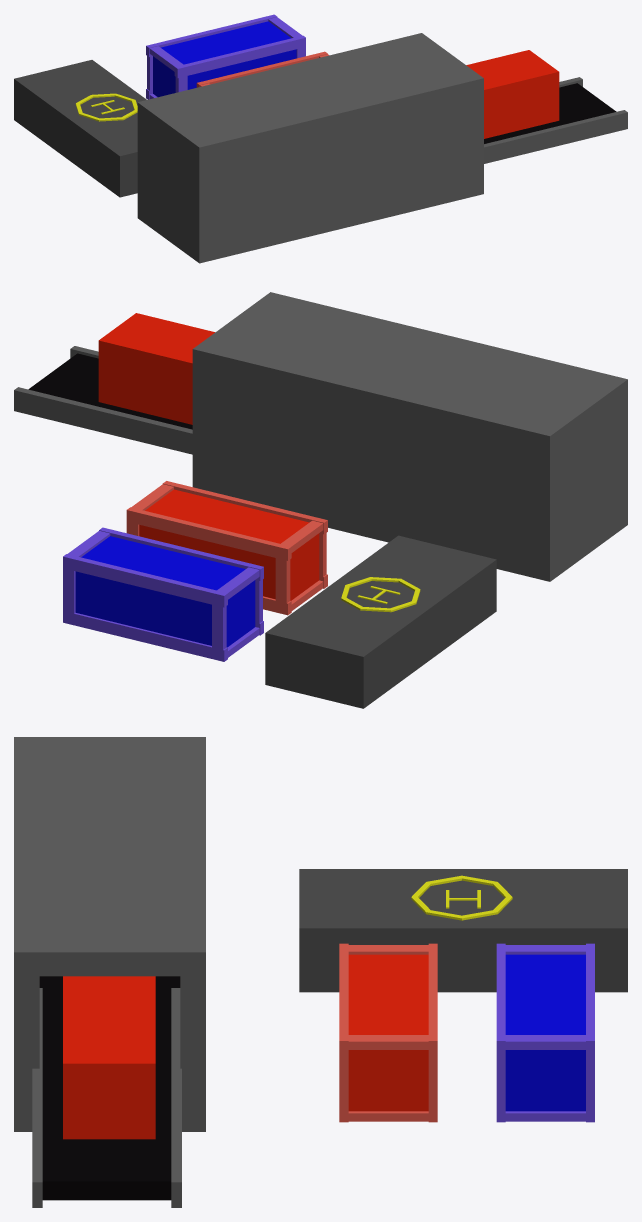
Rendered from karitori.fbx.
The picture shows the model from 3 angles, top to bottom: view 1: azimuth 30°, elevation 25°; view 2: azimuth 150°, elevation 25°; view 3: azimuth 270°, elevation 25°; orthographic projection. The views are drawn at different scales.
Parts seen in each view (by area): view 1: Cube, 立方体.004, 立方体, 立方体.003, 立方体.016, Cube.003, Cube.002, 立方体.001, 立方体.006; view 2: Cube, 立方体.004, 立方体.003, 立方体.016, 立方体, 立方体.002, 立方体.001, Cube.001, Cube.002, 立方体.006; view 3: Cube, 立方体.004, 立方体, Cube.002, 立方体.003, 立方体.002, 立方体.001, 立方体.016, Cube.001, Cube.003, 立方体.006.
Boxes of the visible parts, x1,y1,x2,y2 form: Cube: [137, 33, 483, 263]; 立方体.004: [14, 60, 146, 197]; 立方体: [466, 50, 559, 138]; 立方体.003: [153, 21, 296, 97]; 立方体.016: [146, 14, 305, 99]; Cube.003: [484, 110, 627, 163]; Cube.002: [484, 83, 616, 143]; 立方体.001: [196, 51, 329, 87]; 立方体.006: [75, 93, 137, 121]; Cube: [192, 292, 627, 581]; 立方体.004: [265, 535, 496, 708]; 立方体.003: [75, 536, 255, 647]; 立方体.016: [63, 527, 263, 661]; 立方体: [98, 313, 214, 424]; 立方体.002: [139, 489, 319, 600]; 立方体.001: [126, 481, 327, 615]; Cube.001: [14, 387, 192, 454]; Cube.002: [28, 353, 192, 429]; 立方体.006: [341, 577, 420, 612]; Cube: [14, 737, 205, 1131]; 立方体.004: [299, 869, 627, 992]; 立方体: [63, 976, 155, 1139]; Cube.002: [39, 976, 180, 1200]; 立方体.003: [505, 954, 585, 1111]; 立方体.002: [348, 954, 428, 1111]; 立方体.001: [339, 943, 437, 1122]; 立方体.016: [496, 943, 594, 1122]; Cube.001: [171, 988, 181, 1207]; Cube.003: [32, 988, 42, 1207]; 立方体.006: [411, 875, 512, 920].
Size of the model in its own units: 544 by 144 by 429.
